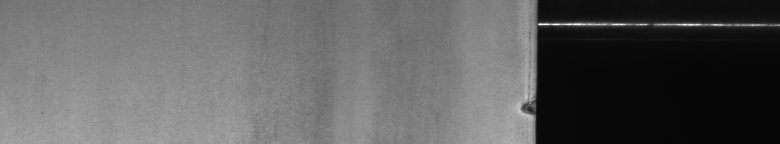hb: (515, 100, 524, 117)
